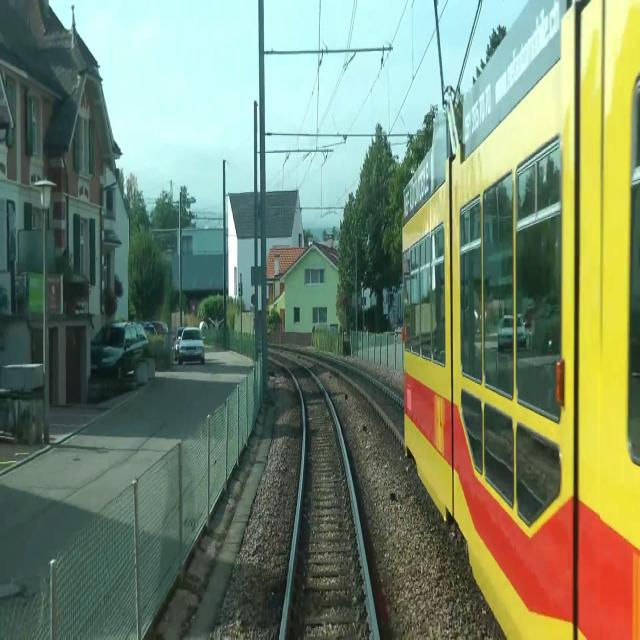rail-track: (267, 353, 373, 639), (322, 358, 404, 432)
